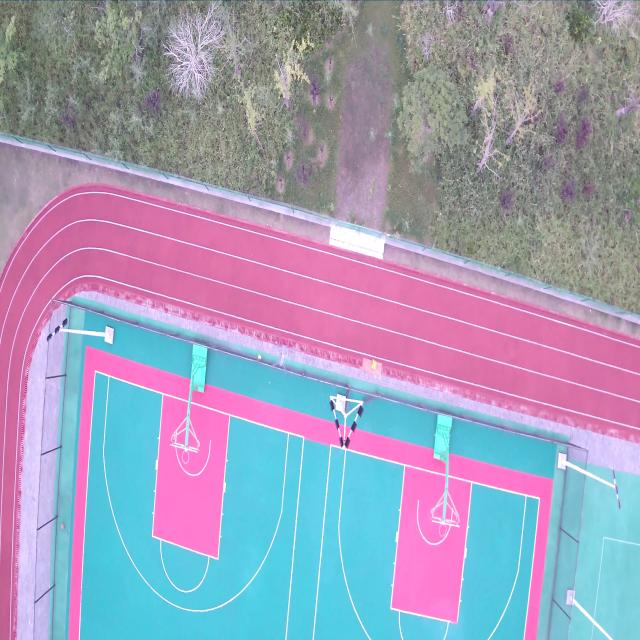UAV: (272, 340, 293, 375)
